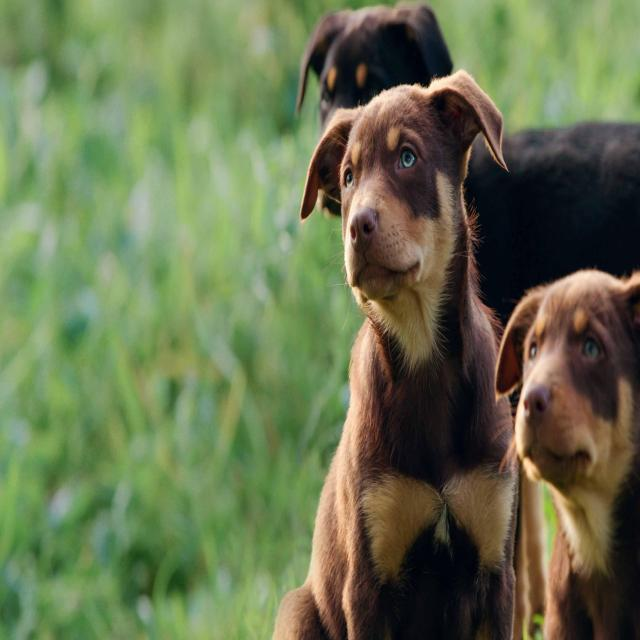Dog: (219, 6, 640, 637)
